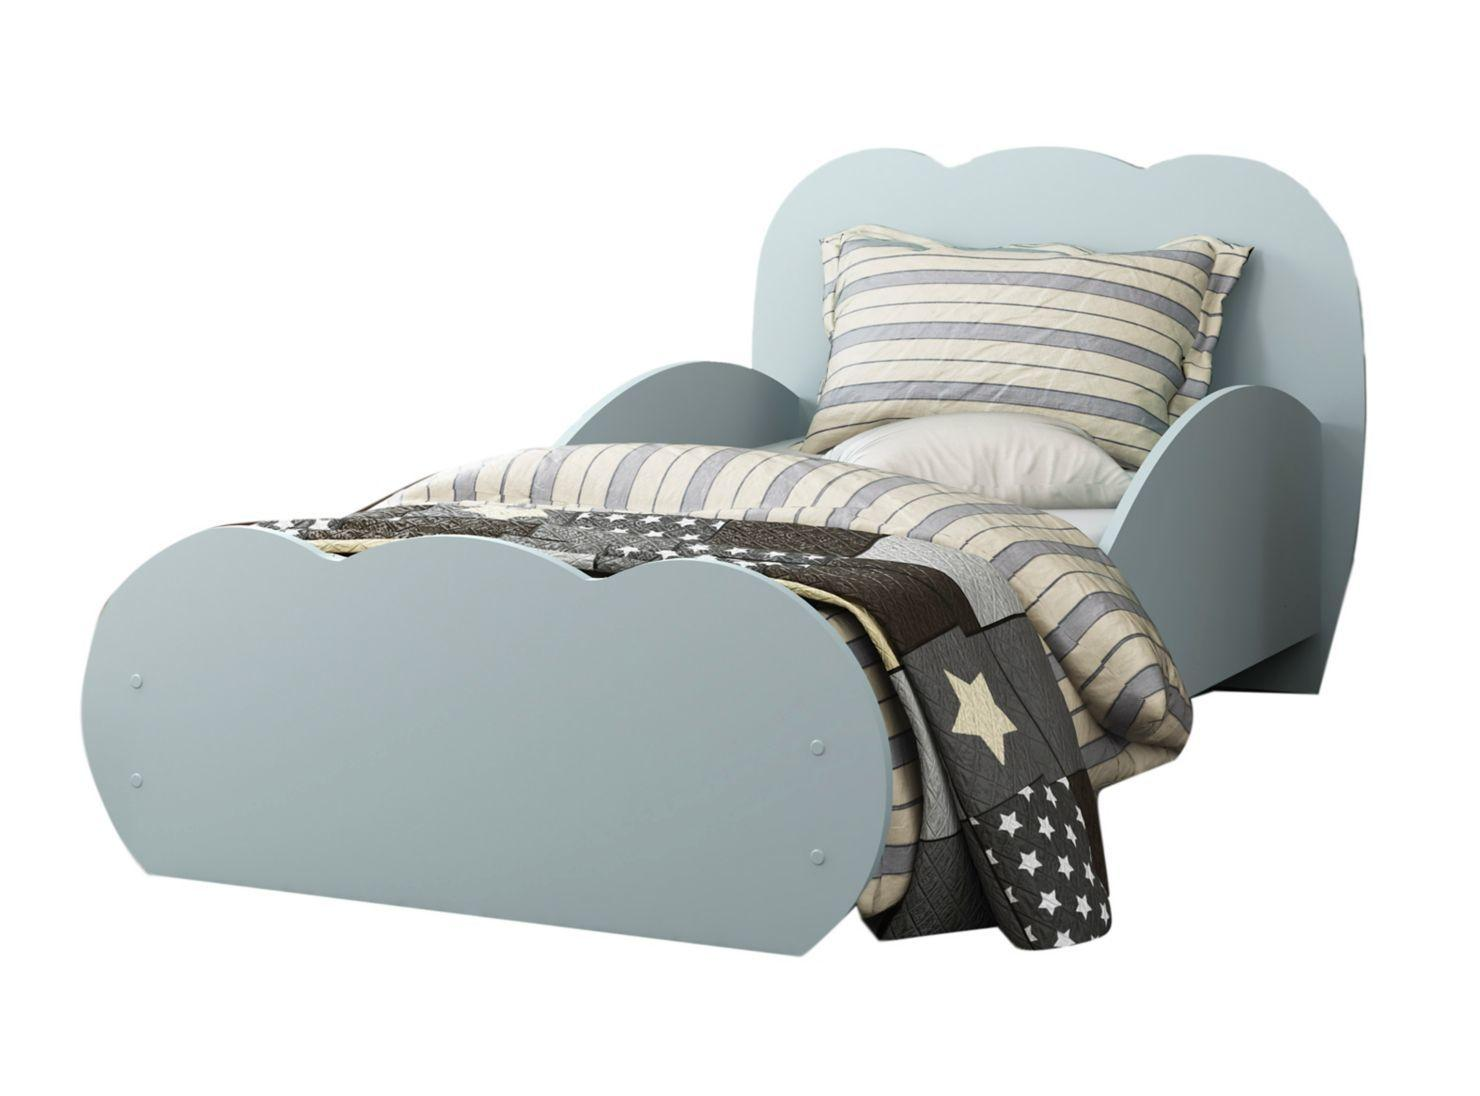bed: (235, 96, 1365, 935)
